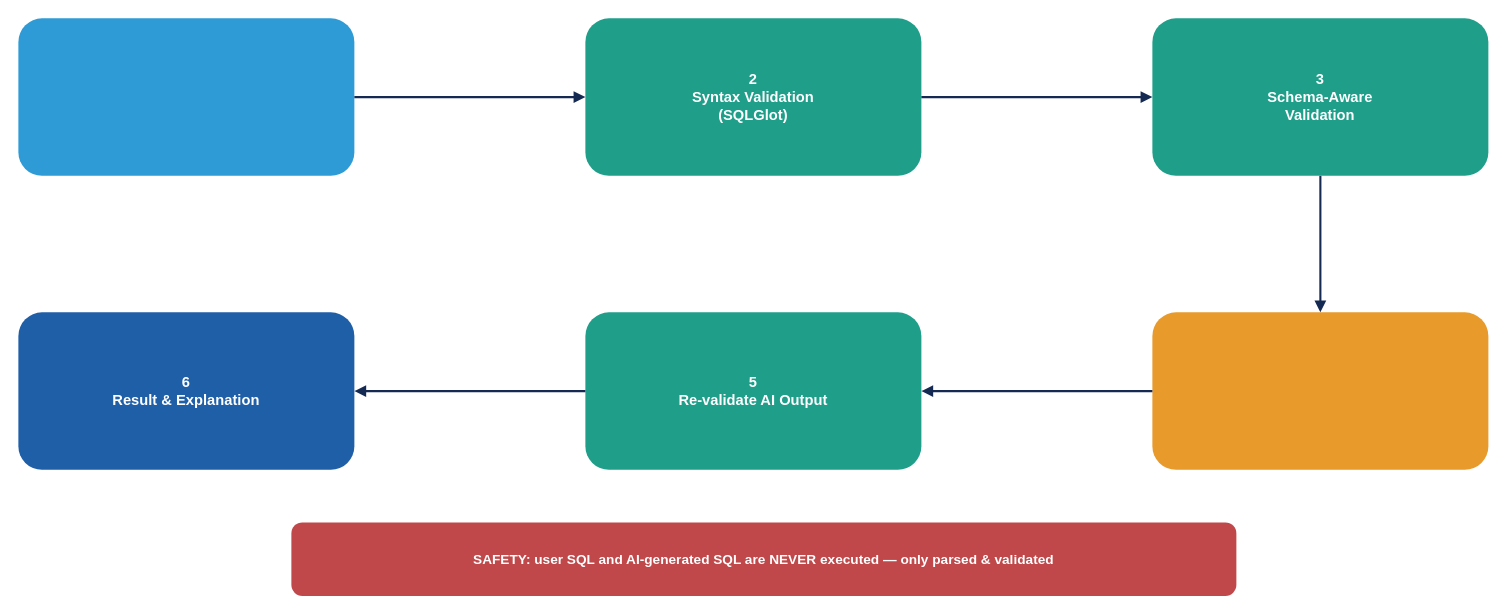
This 1506x613 diagram has some shape labels left out. The shapes that lost their labels are listed below. From the top down, each one's box as (x1, y1, x2, y2) in pixels, then its label:
(18, 18, 354, 175): 1 SQL Editor
(1152, 312, 1488, 469): 4 AI Analysis (+ fallback)
